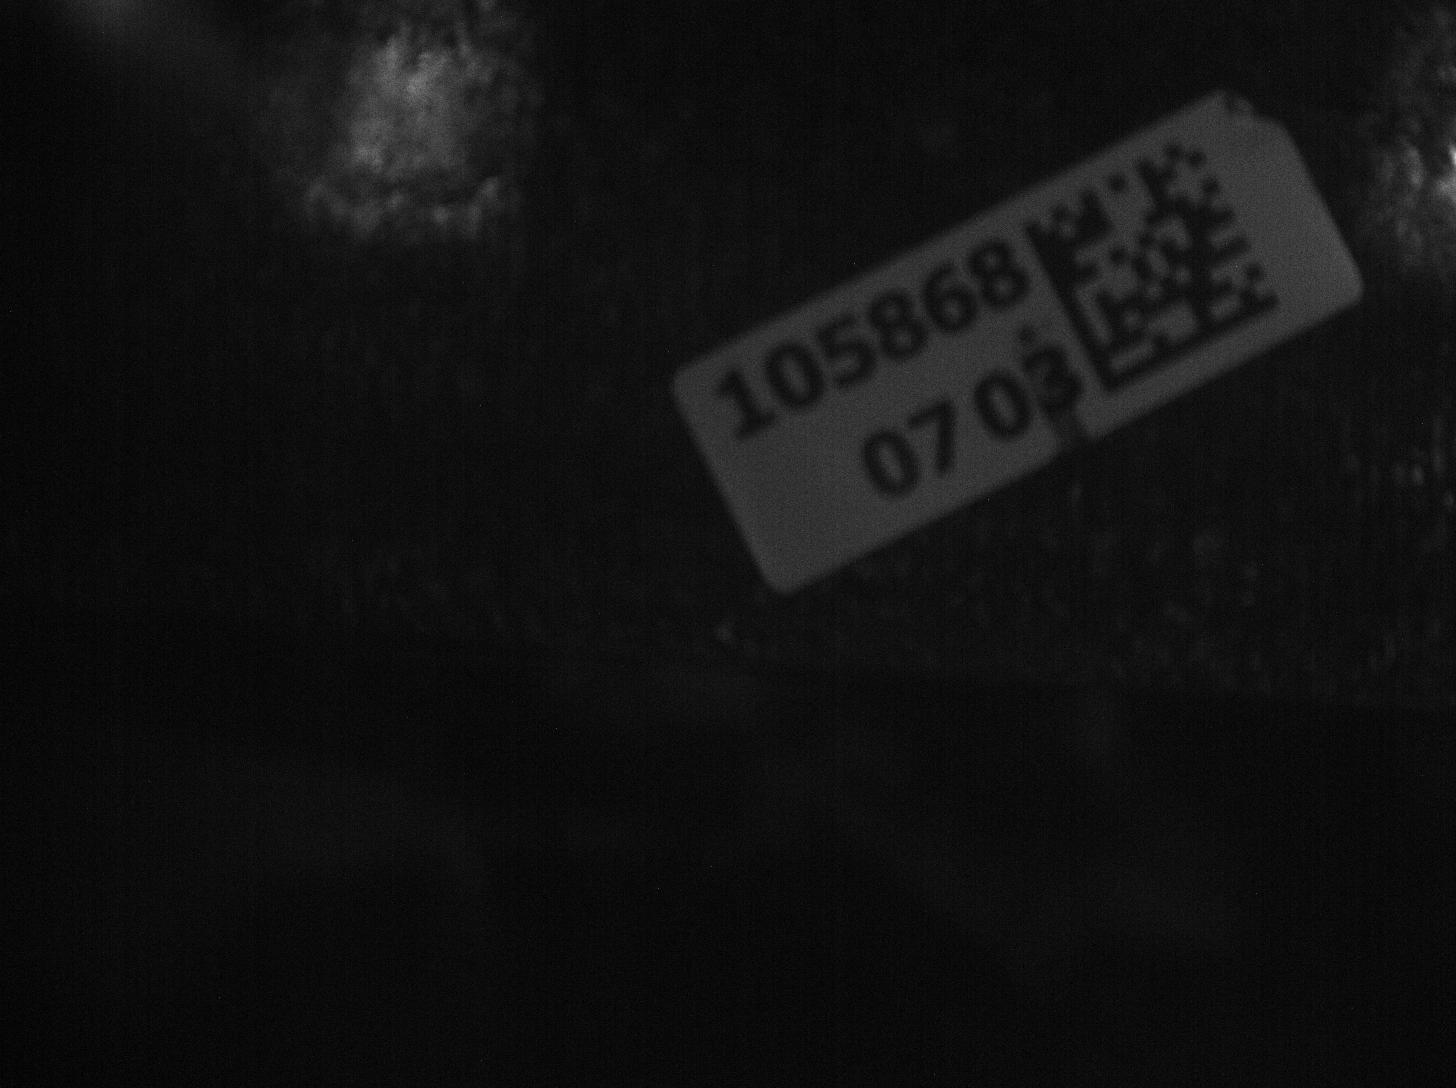data matrix: (1019, 128, 1293, 409)
